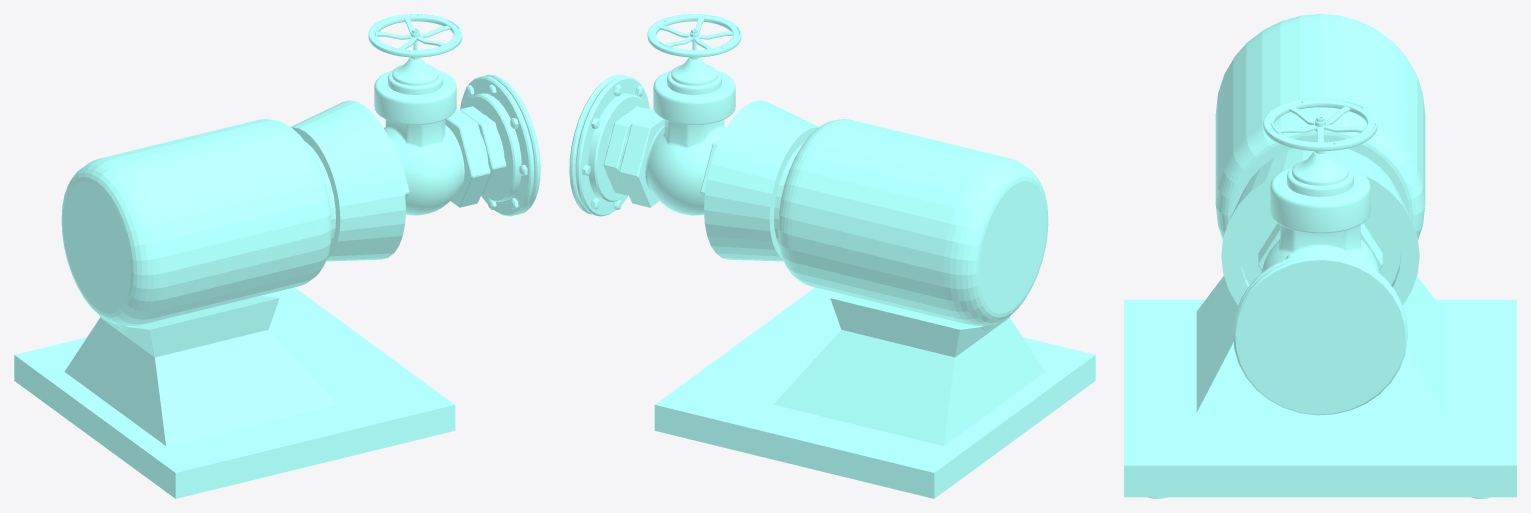
The model's file is 运输泵.fbx.
3 views of the same model, side by side, from view 1: azimuth 30°, elevation 25°; view 2: azimuth 150°, elevation 25°; view 3: azimuth 270°, elevation 25° (orthographic). The views are drawn at different scales.
Visible parts, largest first — view 1: 2024-第四届鹏城杯补充-输送阀; view 2: 2024-第四届鹏城杯补充-输送阀; view 3: 2024-第四届鹏城杯补充-输送阀.
Part boxes in pixels (x1,y1,x2,y2): 2024-第四届鹏城杯补充-输送阀: [14, 14, 540, 498]; 2024-第四届鹏城杯补充-输送阀: [569, 14, 1095, 498]; 2024-第四届鹏城杯补充-输送阀: [1124, 14, 1516, 498].
Bounding box in the file's own units: 322 × 255 × 219.
